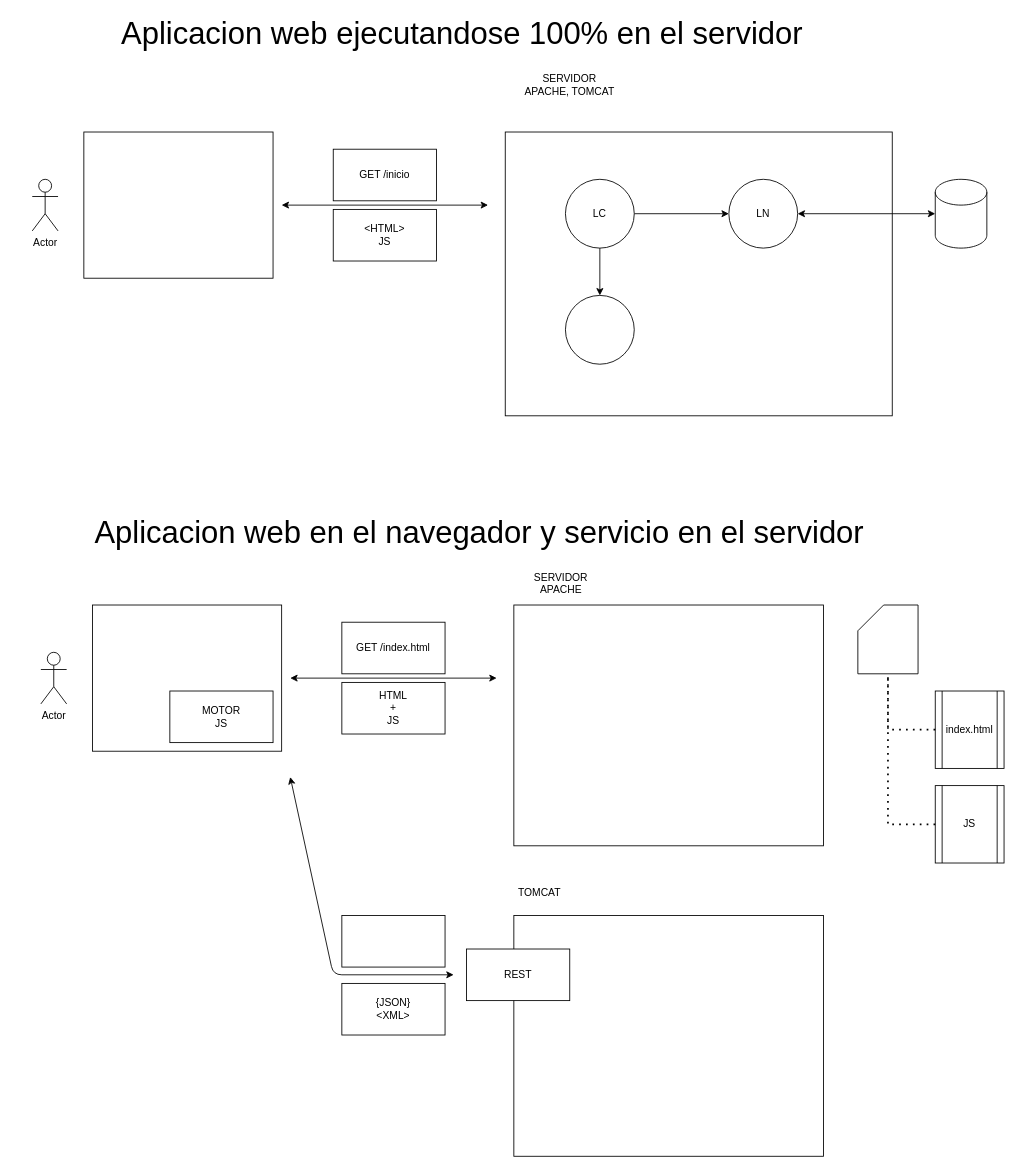
Image size: 1019x1171. Some labels were removed from this diagram. The box of each missing label's shape, as (x1, y1, x2, y2) in pixels:
bb.dd: (934, 178, 987, 248)
GET /clentes: (341, 915, 445, 967)
VISTA: (565, 295, 634, 364)
WWW: (857, 604, 918, 674)
